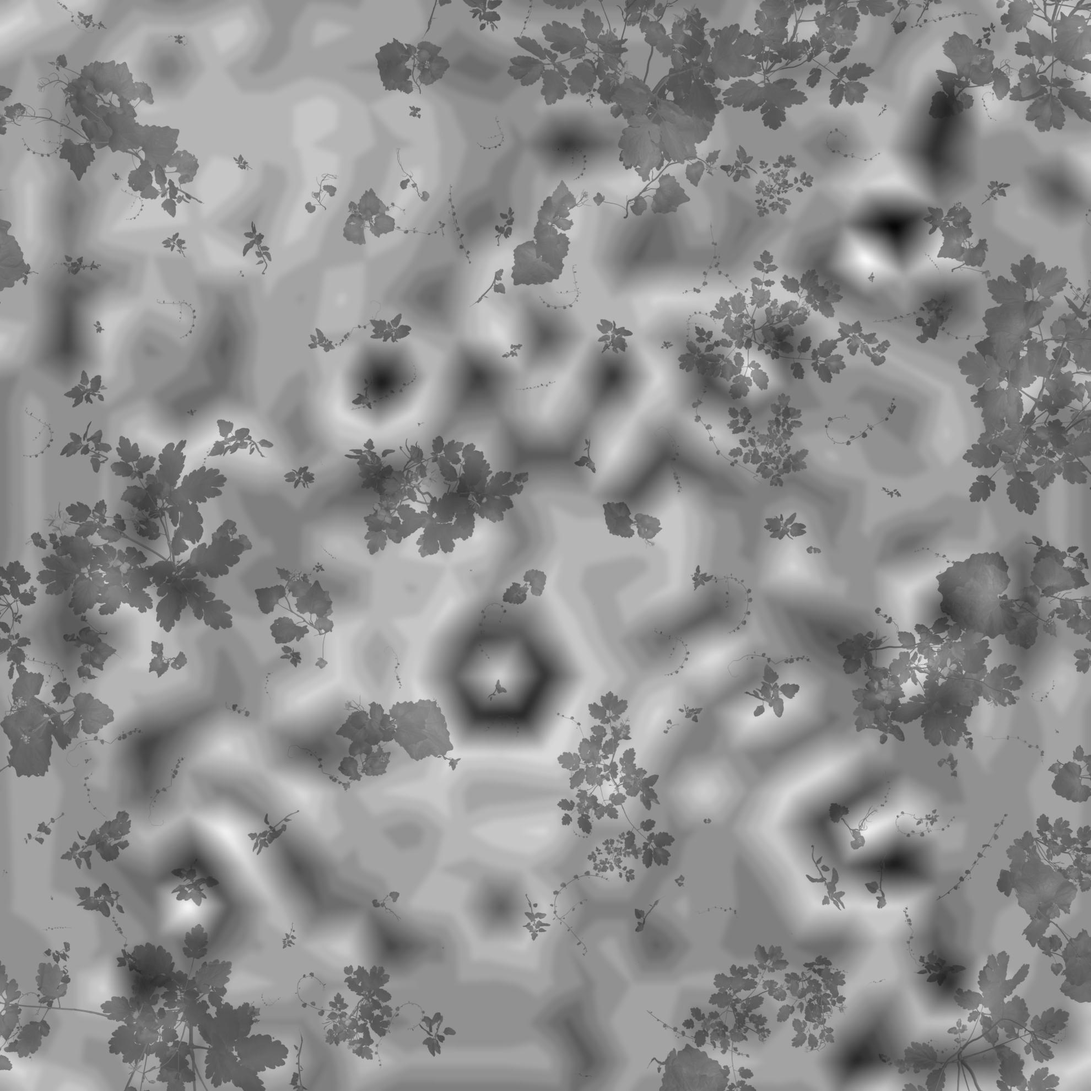landmine: (433, 600, 572, 739)
